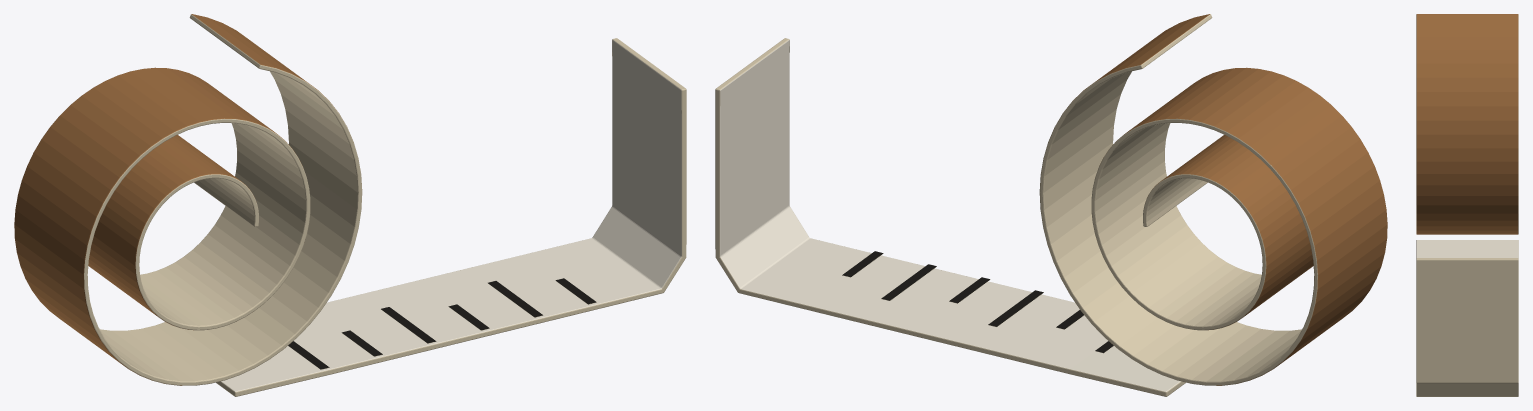
Rendered from achievement-body-tracker.glb.
3 renders of one model, left to right at view 1: azimuth 30°, elevation 25°; view 2: azimuth 150°, elevation 25°; view 3: azimuth 270°, elevation 25°, orthographic. The views are drawn at different scales.
Visible parts, largest first — view 1: achievement-body-tracker; view 2: achievement-body-tracker; view 3: achievement-body-tracker.
Part boxes in pixels (box(x1,y1,x2,y2)): achievement-body-tracker: box(14, 14, 686, 396); achievement-body-tracker: box(715, 14, 1387, 396); achievement-body-tracker: box(1416, 14, 1518, 396).
Size of the model in its own units: 1.69 by 0.877 by 0.34.
